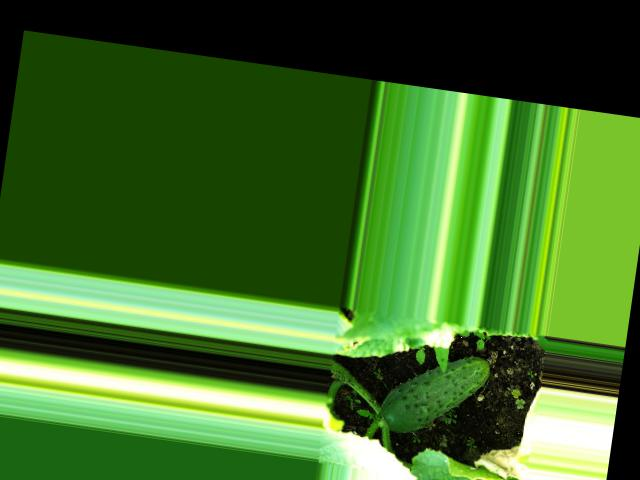cucumber: (376, 344, 491, 444)
